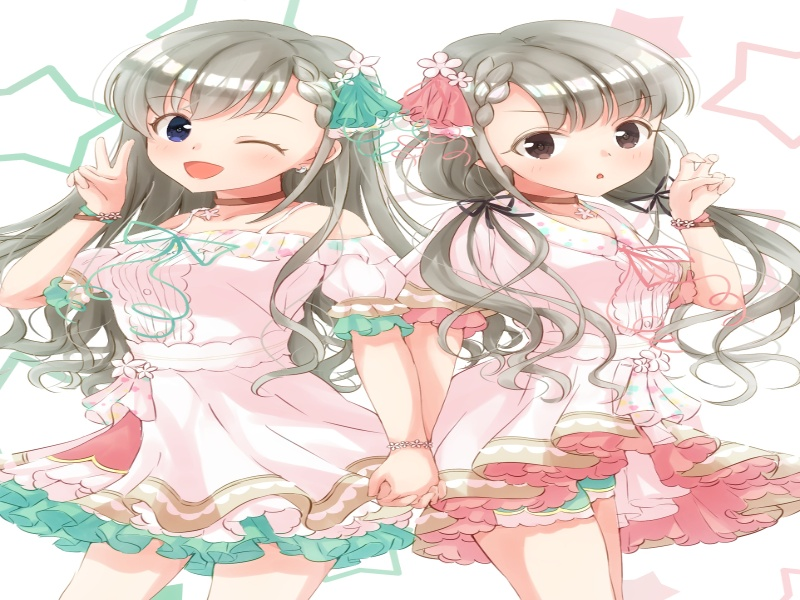dress: (14, 210, 420, 577), (414, 217, 800, 563)
person: (106, 16, 385, 210), (431, 23, 673, 211)
